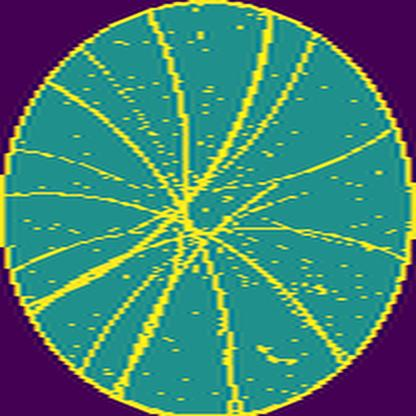Scratch: (14, 11, 396, 405)
